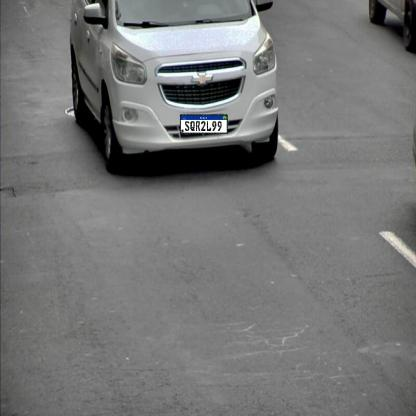PlacaM: (180, 114, 228, 134)
